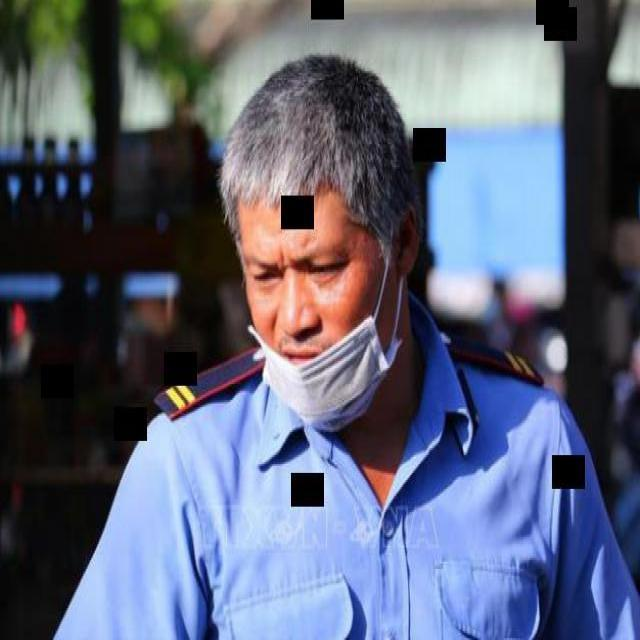hairnet: (247, 278, 404, 427)
